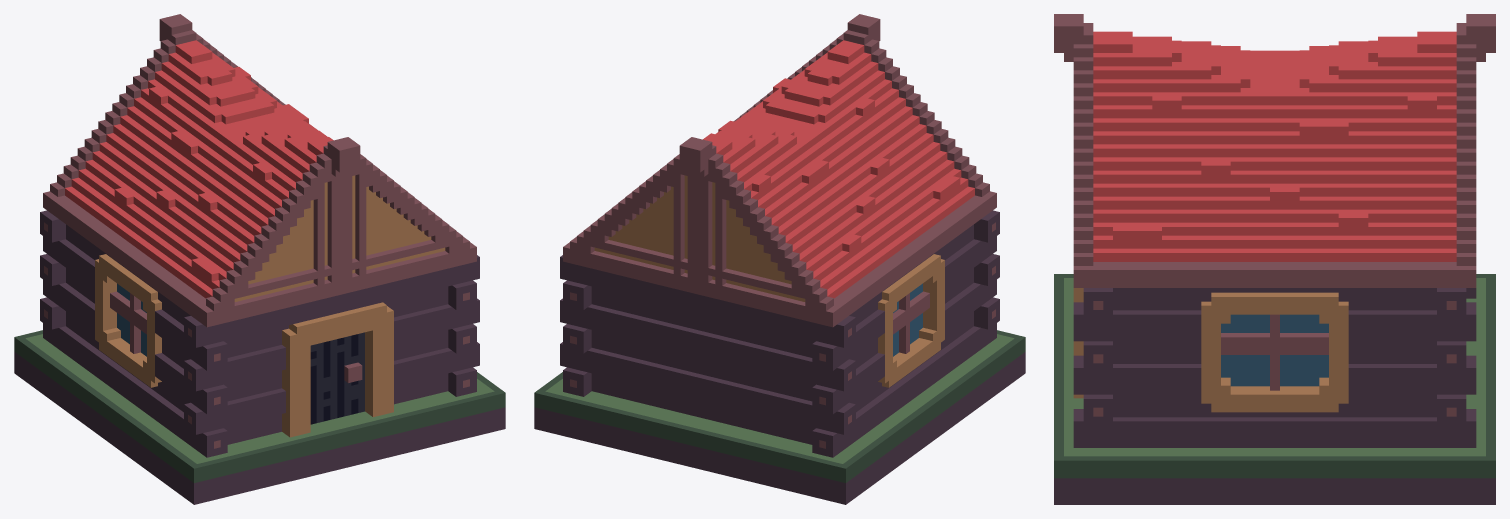
Rendered from House.obj.
3 views of the same model, side by side, from view 1: azimuth 30°, elevation 25°; view 2: azimuth 150°, elevation 25°; view 3: azimuth 270°, elevation 25° (orthographic). The views are drawn at different scales.
Visible parts, largest first — view 1: House; view 2: House; view 3: House.
Part boxes in pixels (x1,y1,x2,y2): House: [14, 14, 505, 504]; House: [534, 14, 1025, 504]; House: [1054, 14, 1495, 504].
Bounding box in the file's own units: 45 × 44 × 45.
Materials: 1 (1 with a texture image).
